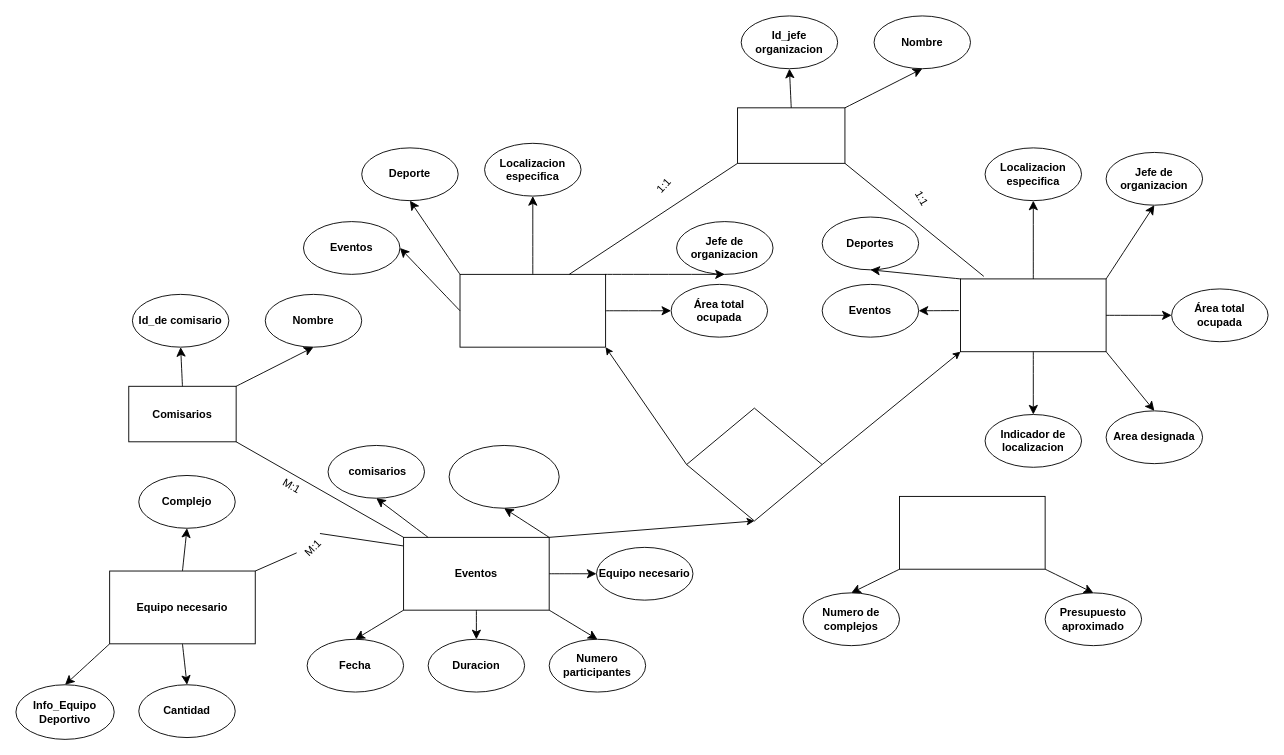
Image size: 1284x755. Some labels were removed from this diagram. Each missing label, with the centre of its shape:
"complejo (deportivo o polideportivo)" goes at point (503, 476).
"Complejo deportivo o polideportivo" goes at point (754, 464).
"Complejos deportivos" goes at point (532, 310).
"Complejos polideportivos" goes at point (1033, 315).
"Info_Sede" goes at point (972, 532).
"Jefe de organización" goes at point (791, 135).
